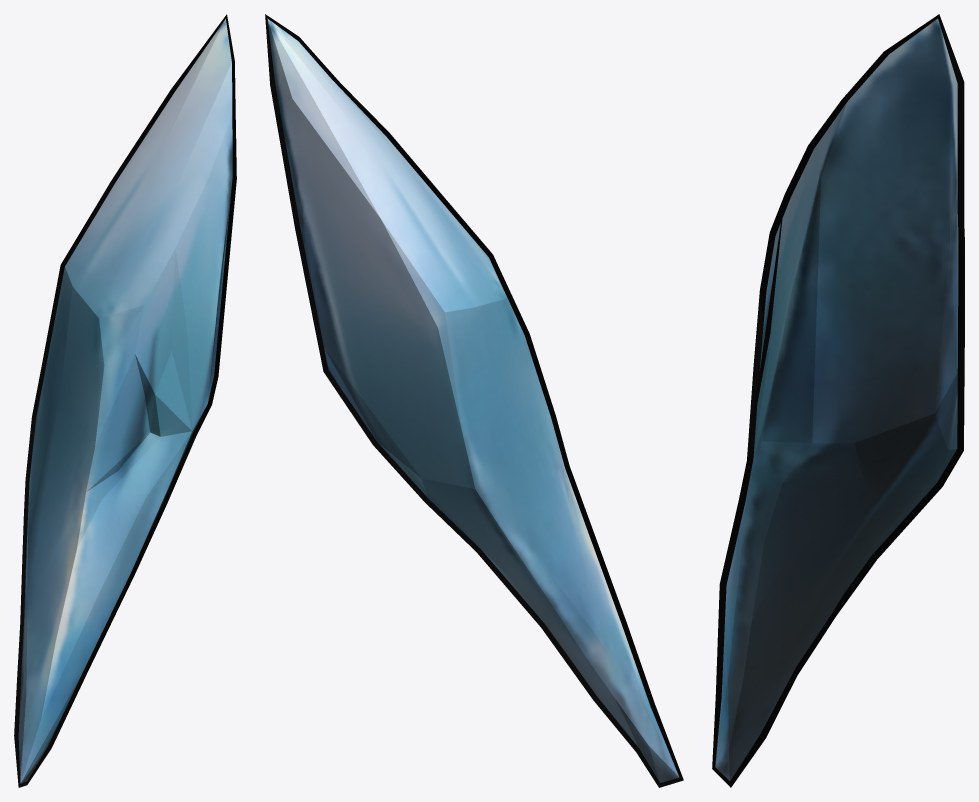
The model's file is IceShard2.fbx.
3 views of the same model, side by side, from view 1: azimuth 30°, elevation 25°; view 2: azimuth 150°, elevation 25°; view 3: azimuth 270°, elevation 25° (orthographic). The views are drawn at different scales.
Visible parts, largest first — view 1: model.002; view 2: model.002; view 3: model.002.
Boxes of the visible parts, <box> form: model.002: <box>14,14,236,787</box>; model.002: <box>265,14,683,787</box>; model.002: <box>712,14,964,787</box>.
Bounding box in the file's own units: 21.26 × 46.61 × 11.01.
